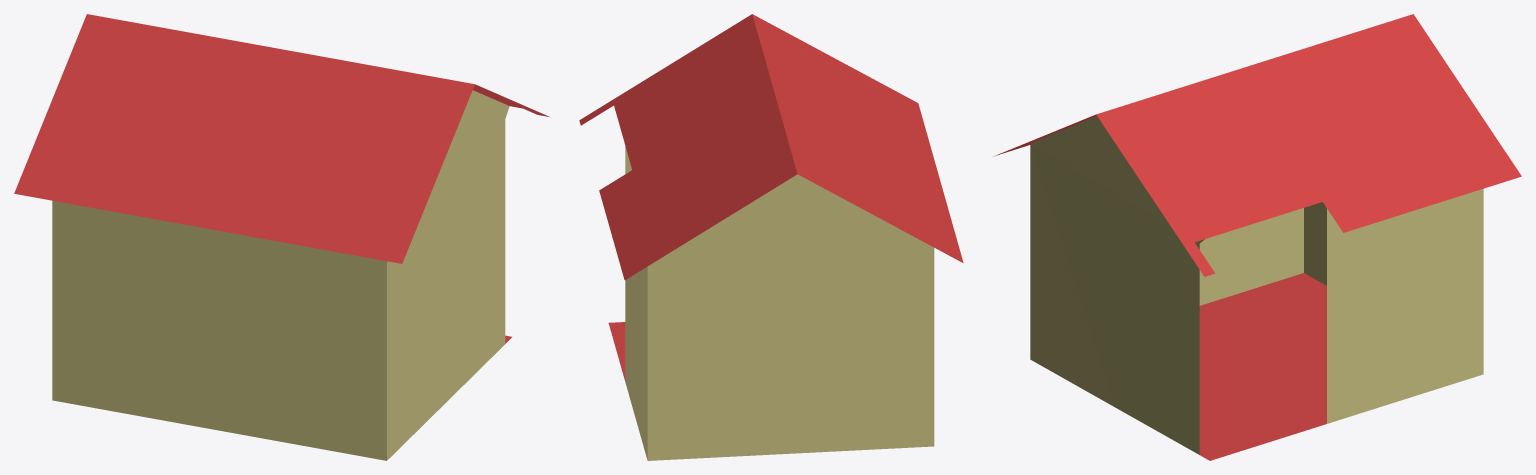
3 views of the same model, side by side, from view 1: azimuth 30°, elevation 25°; view 2: azimuth 150°, elevation 25°; view 3: azimuth 270°, elevation 25° (orthographic). The views are drawn at different scales.
Bounding box in the file's own units: 19.09 × 19.4 × 12.18.
